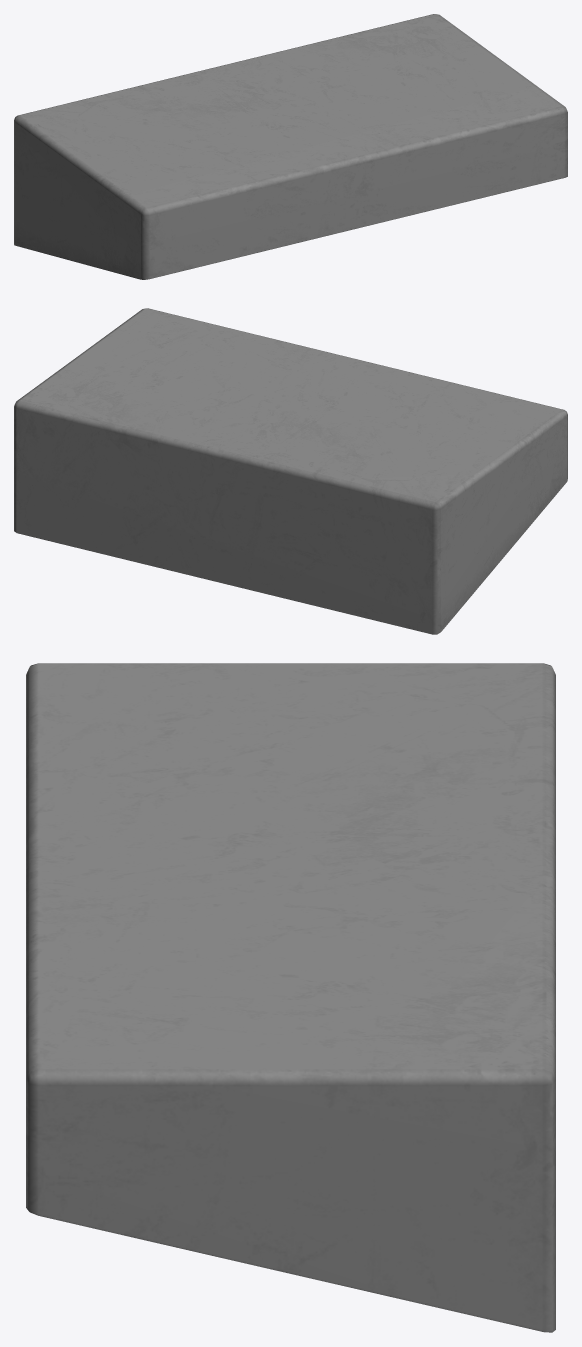
Rendered from hood_vent.fbx.
3 renders of one model, top to bottom at view 1: azimuth 30°, elevation 25°; view 2: azimuth 150°, elevation 25°; view 3: azimuth 270°, elevation 25°, orthographic. The views are drawn at different scales.
Visible parts, largest first — view 1: vent; view 2: vent; view 3: vent.
Boxes of the visible parts, left/top/right/bottom form: vent: left=14, top=14, right=567, bottom=279; vent: left=14, top=308, right=567, bottom=634; vent: left=26, top=663, right=555, bottom=1332.
Size of the model in its own units: 2.19 by 0.6382 by 1.18.
Materials: 2 (2 with a texture image).
